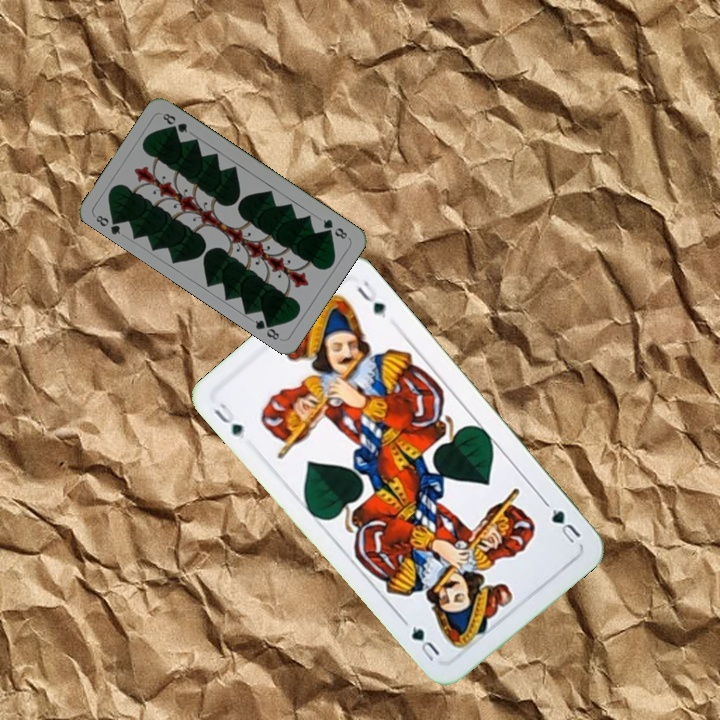G8: (319, 215, 350, 242), (92, 211, 124, 237)
GU: (209, 398, 247, 442), (547, 504, 584, 546)
